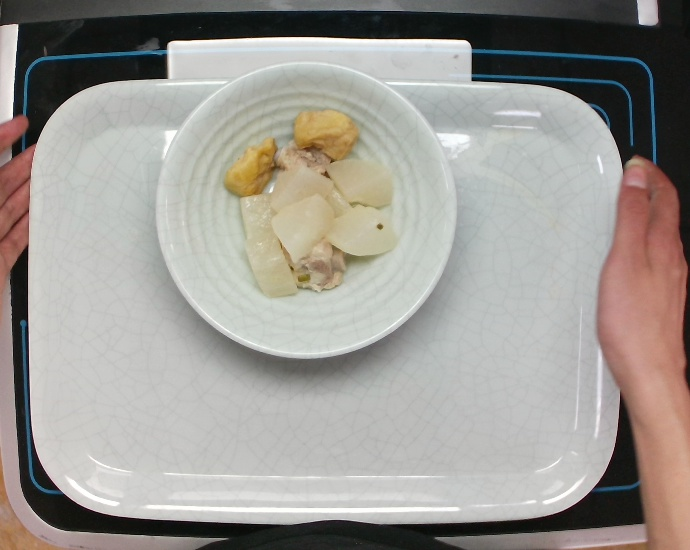JYsf-Xiao_Tang_Wan: (151, 59, 459, 362)
